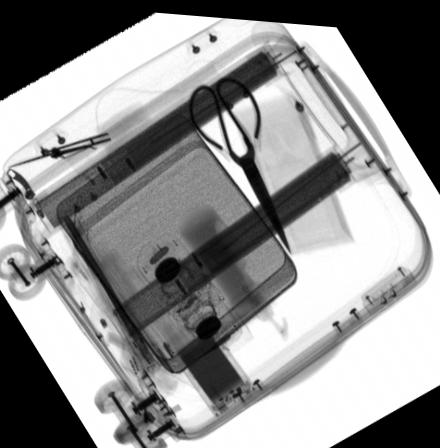Knife: (1, 125, 115, 171)
Powerbank: (169, 321, 260, 421)
Scissors: (187, 71, 293, 252)
